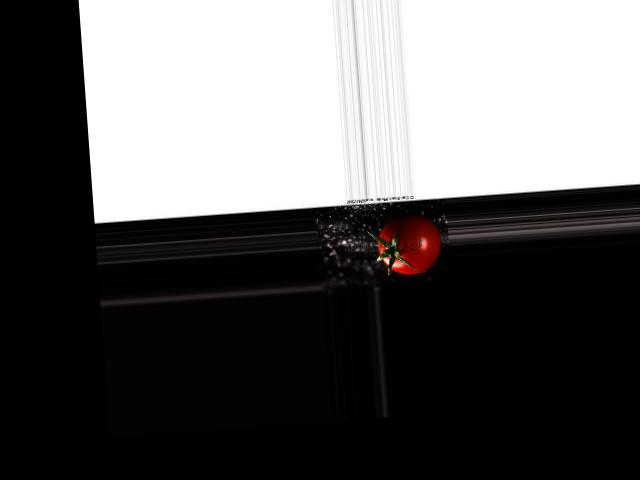tomato: (375, 211, 442, 276)
